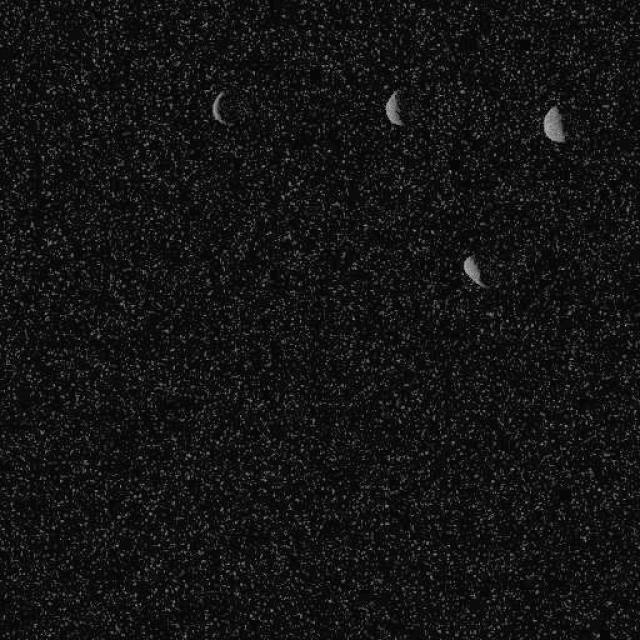D2: (542, 104, 566, 144), (461, 254, 489, 288), (384, 89, 404, 126), (210, 89, 229, 125)
